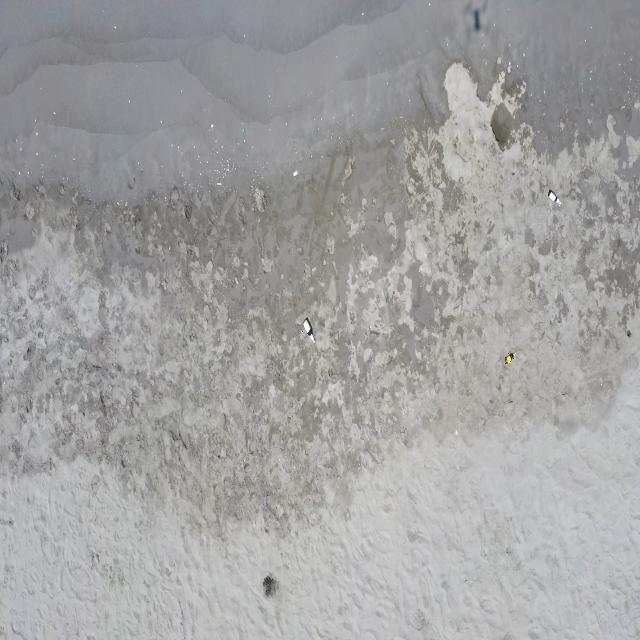glass: (302, 318, 316, 344), (547, 190, 562, 206), (504, 351, 516, 364)
